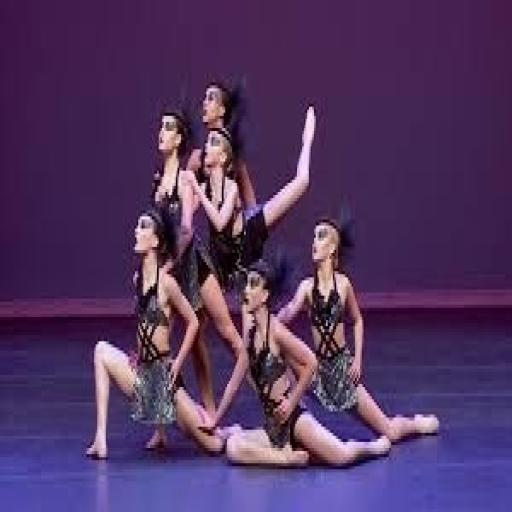dancing: (80, 79, 396, 512)
